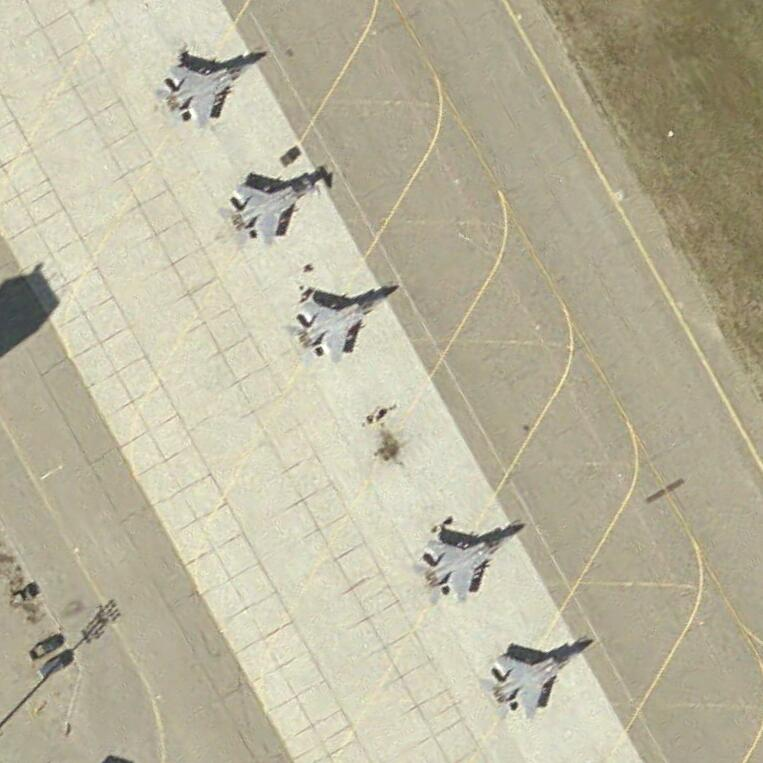A13: (480, 634, 592, 723), (415, 518, 525, 604), (287, 281, 397, 365), (155, 49, 267, 129), (220, 168, 328, 246)
